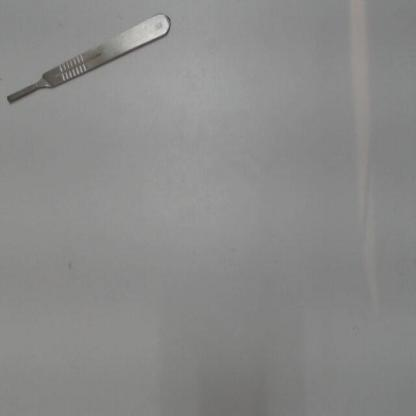No.4 BP Handle: (1, 5, 181, 113)
